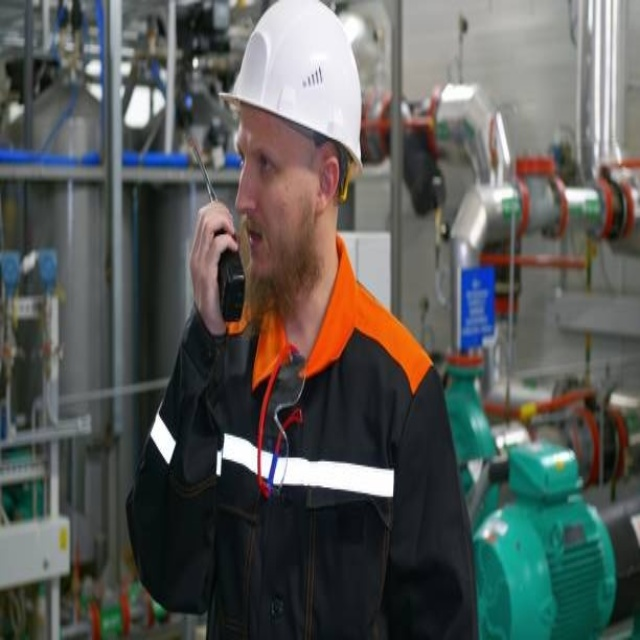Sin_gafas: (236, 128, 302, 188)
Sin_guantes: (188, 195, 236, 326)
Sin_mascara: (239, 212, 276, 275)
